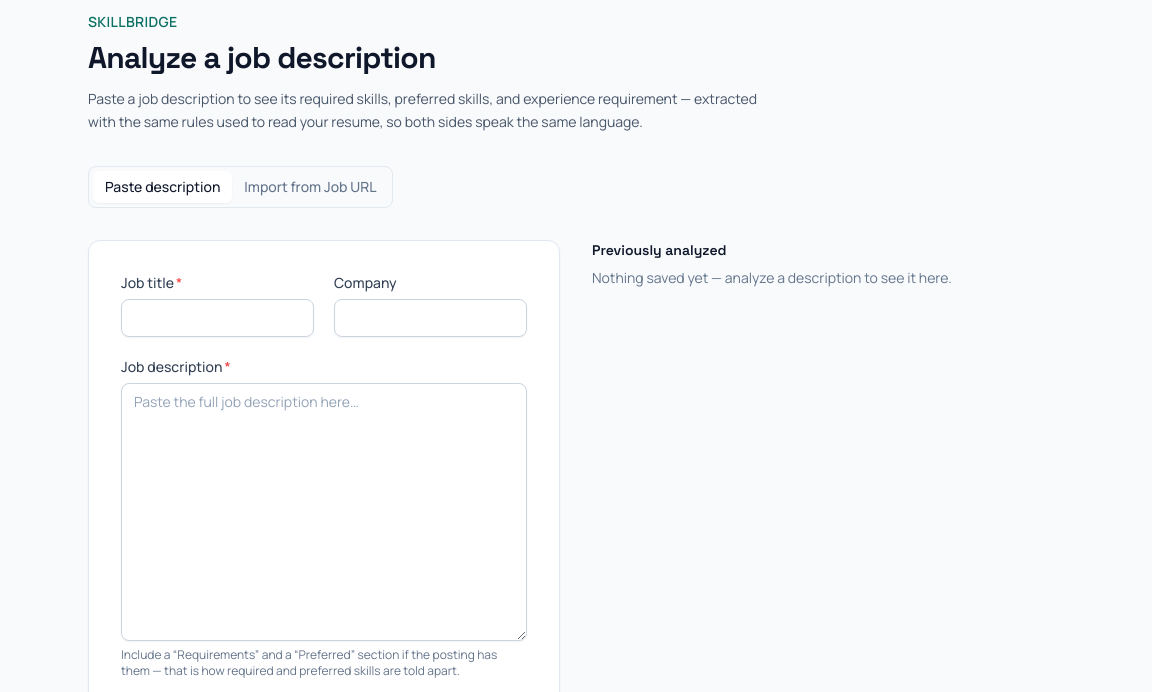
AnalyzeJobPage — Import from Job URL › fetches a preview and shows the extracted fields without saving anything
Click the button "Import from Job URL": {"x": 310, "y": 186} [232,170,388,202]
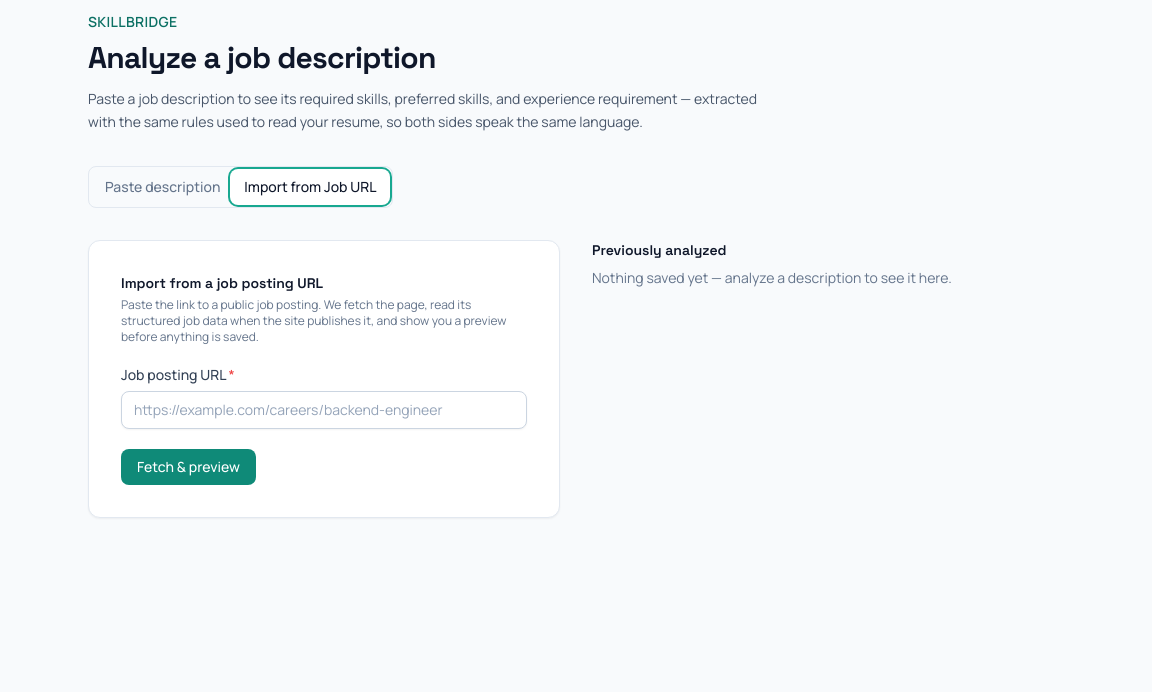
In the field labelled "Job posting URL": {"x": 324, "y": 410} [121,390,527,428], type "https://boards.example.com/jobs/42"
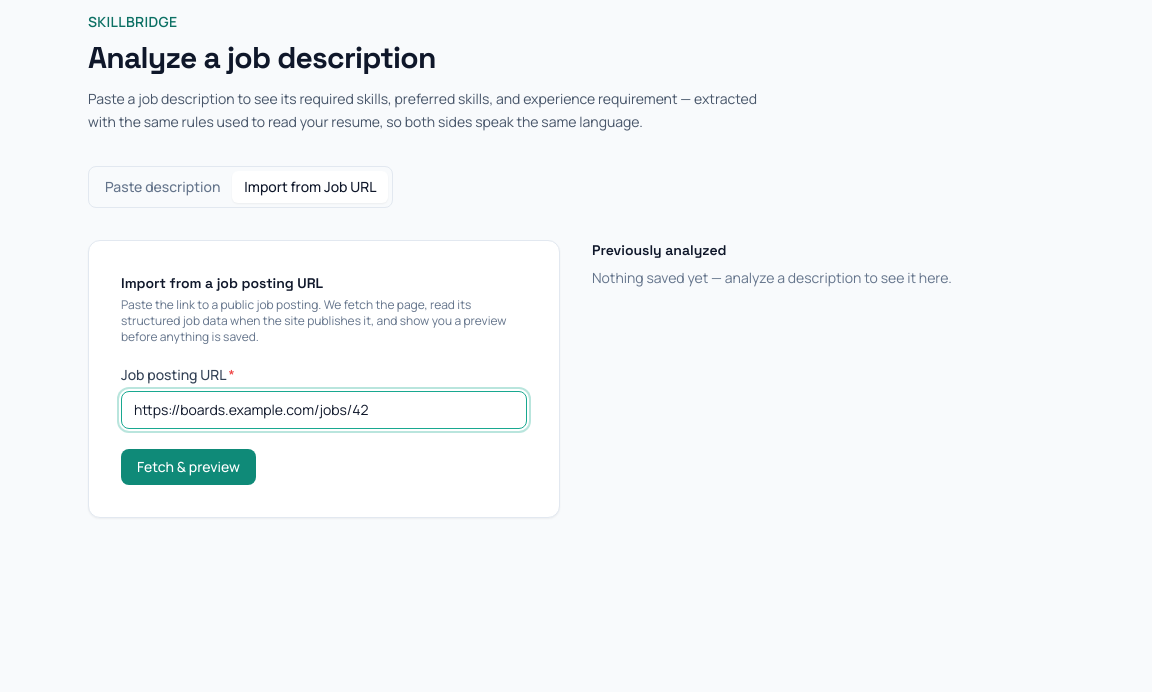
Click the button "Fetch & preview": {"x": 188, "y": 466} [121,448,256,484]
(page scrolled)
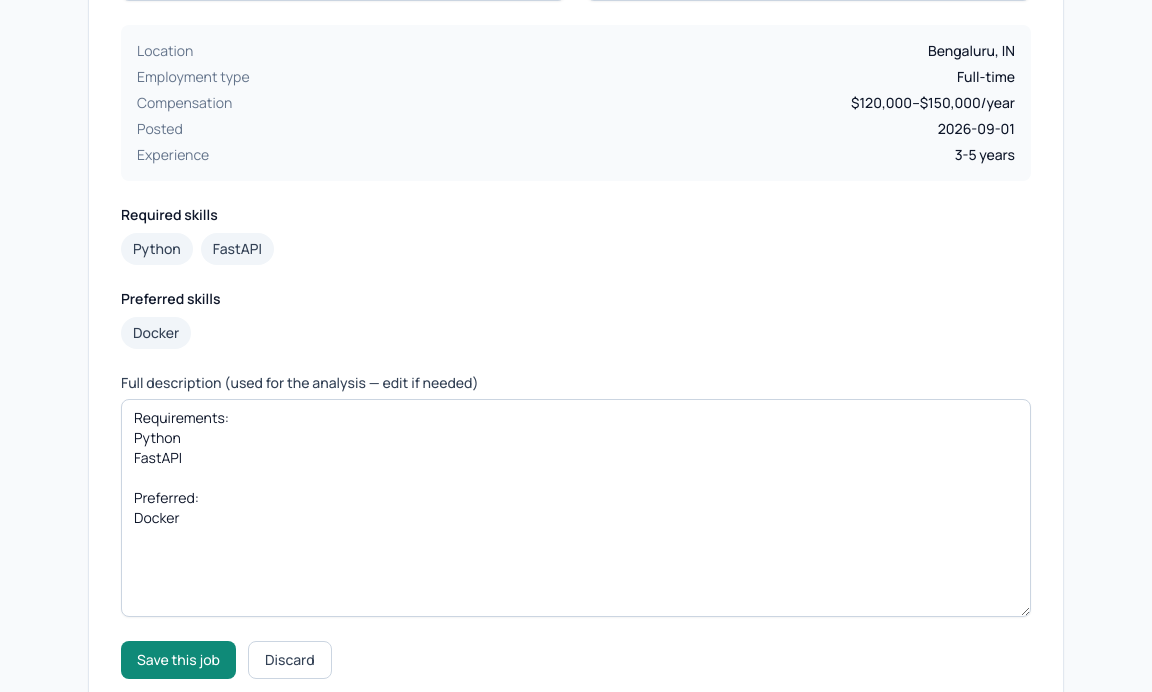
Expected: the text "Bengaluru, IN" is shown, [928,40,1015,60]
Expected: the text "Full-time" is shown, [957,66,1015,86]
Expected: the text "$120,000–$150,000/year" is shown, [851,92,1015,112]
